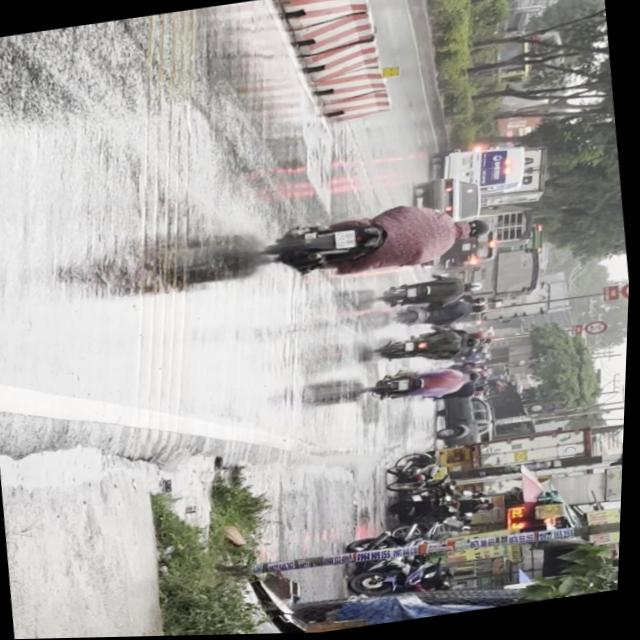helmet: (458, 217, 496, 242)
licenseplate: (261, 192, 502, 291)
nohelmet: (336, 230, 359, 251)
